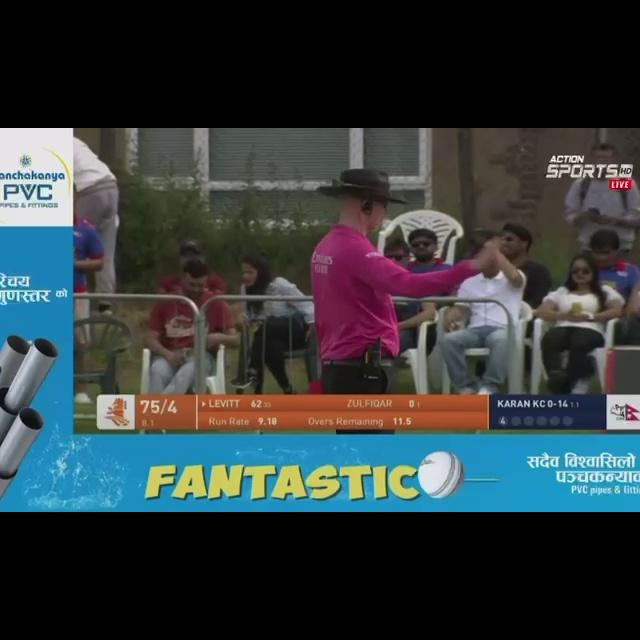umpire: (278, 168, 511, 390)
